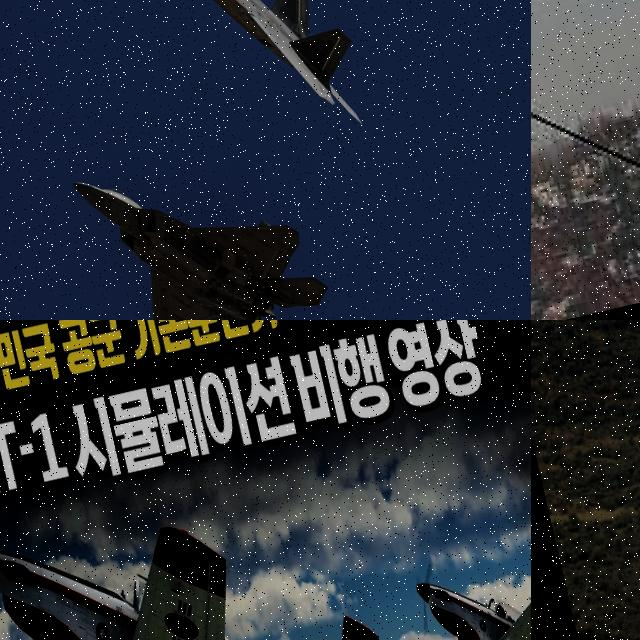Apache: (531, 0, 640, 320), (531, 320, 640, 640)
F22: (74, 130, 339, 320), (138, 0, 379, 169)
KT-1: (0, 427, 408, 640), (413, 524, 531, 640)
